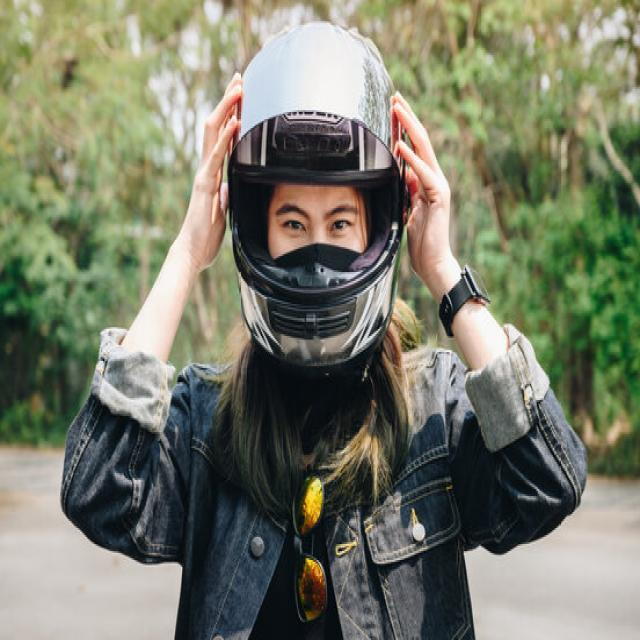Helm: (219, 19, 414, 376)
